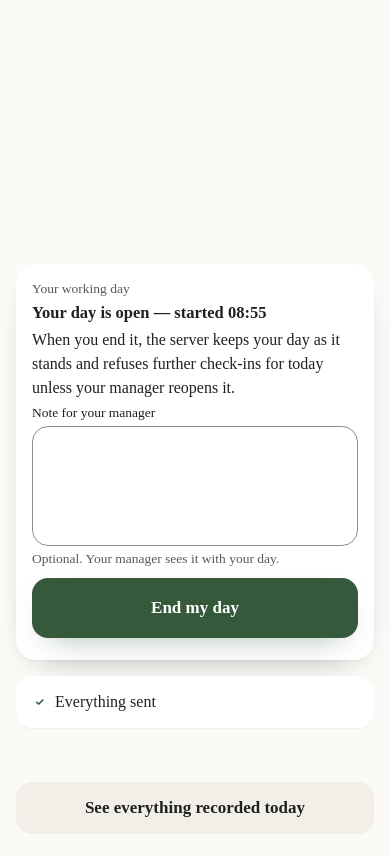
Scenario: FE-W80 — End my day › no signal: the end is on the PHONE and waiting — never presented as the server’s
(page scrolled)
Expected: the text "End my day" is shown, [151,597,239,619]
Click the button "End my day" at (195, 608), box [32,578,358,638]
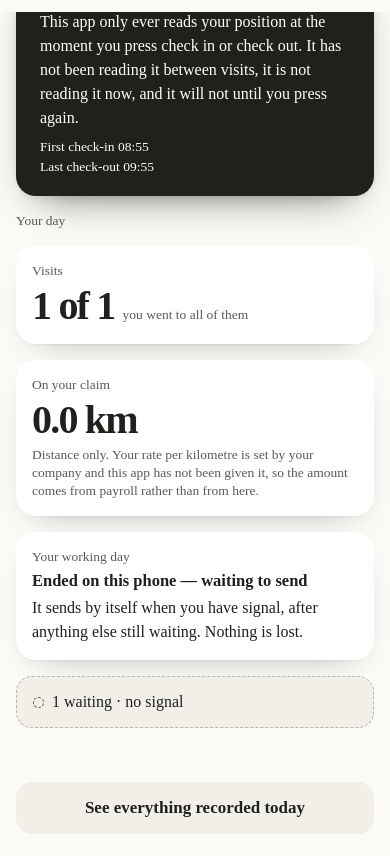
Result: the text "Ended on this phone — waiting to send" is shown at [32,571,308,590]
Result: the button "End my day" is gone
